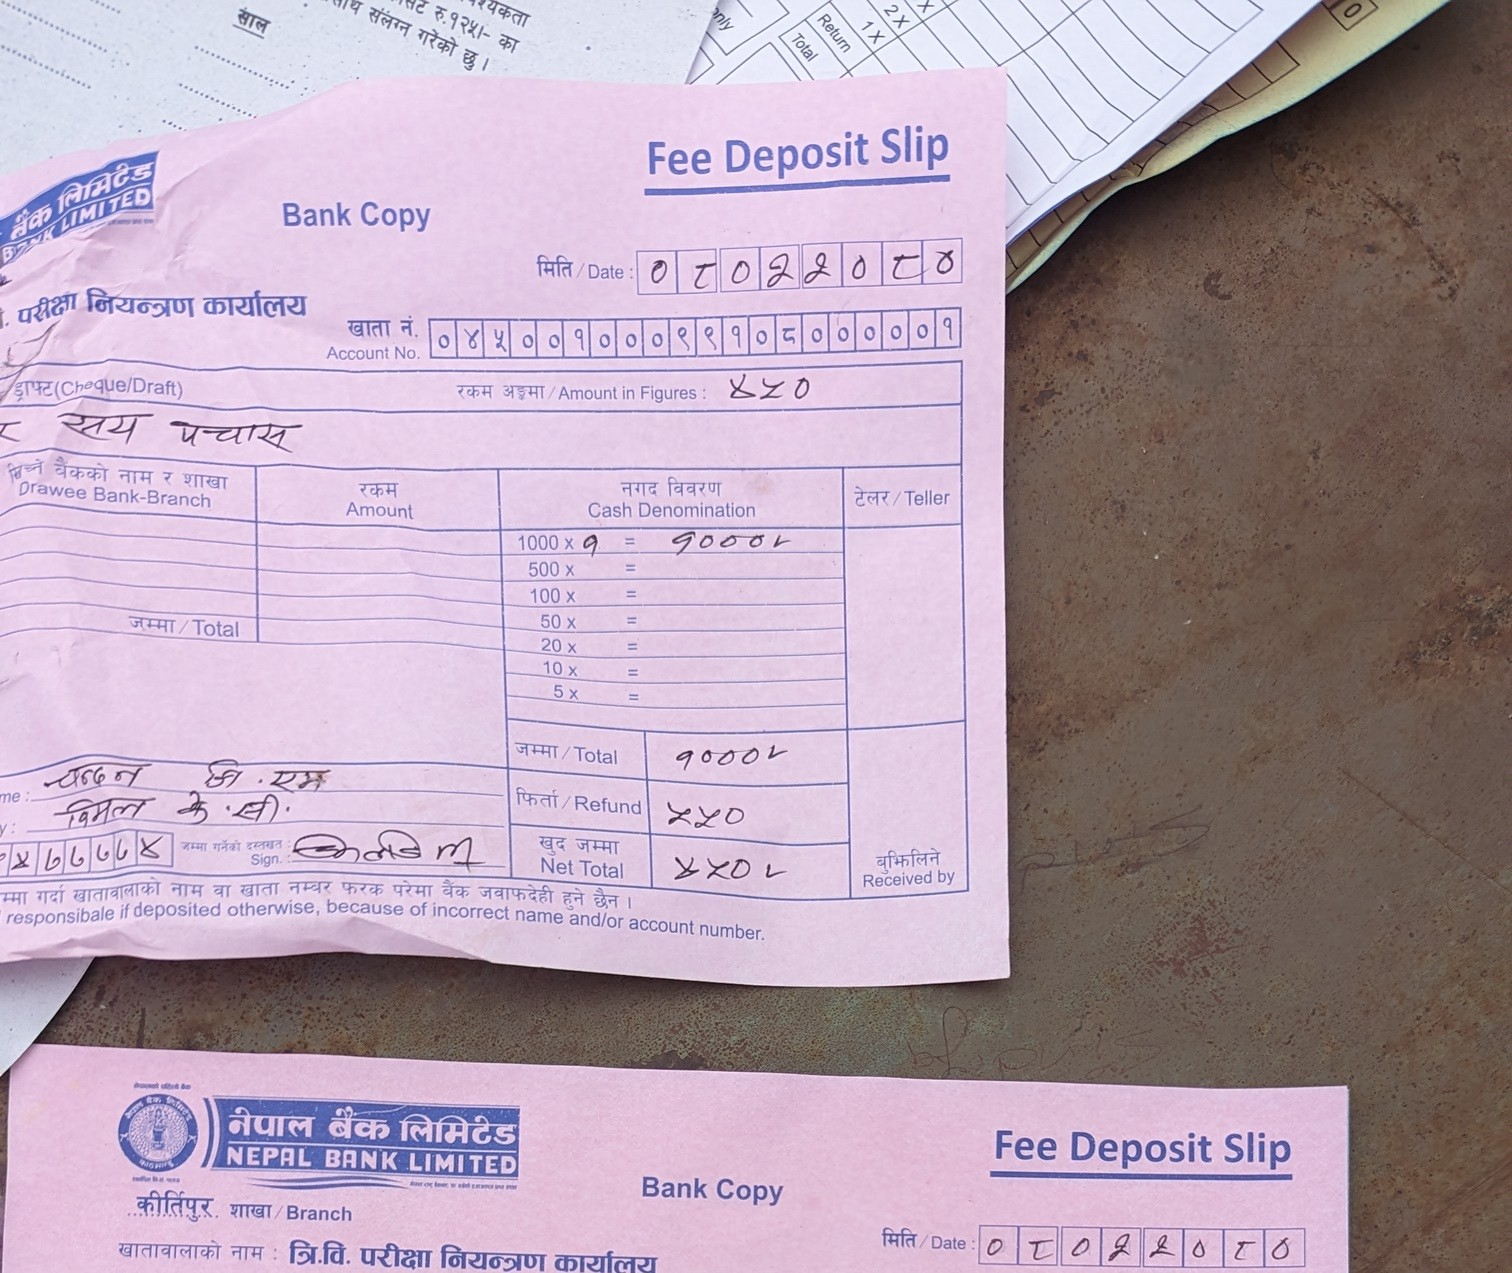text: (285, 818, 479, 869), (8, 832, 169, 871), (176, 414, 293, 463), (664, 729, 781, 777), (654, 789, 762, 839), (719, 368, 832, 410), (667, 517, 773, 559), (668, 849, 772, 889), (54, 402, 143, 446), (40, 760, 150, 792), (58, 797, 147, 836), (638, 248, 681, 306), (723, 242, 765, 301), (680, 245, 723, 302), (760, 237, 803, 294), (798, 235, 841, 292), (841, 237, 884, 294), (883, 240, 926, 297), (922, 237, 968, 289), (267, 767, 333, 793), (571, 527, 613, 567), (201, 751, 241, 793), (169, 796, 219, 828), (234, 793, 284, 825)
